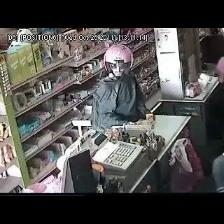person: (92, 45, 146, 131), (213, 154, 223, 192)
